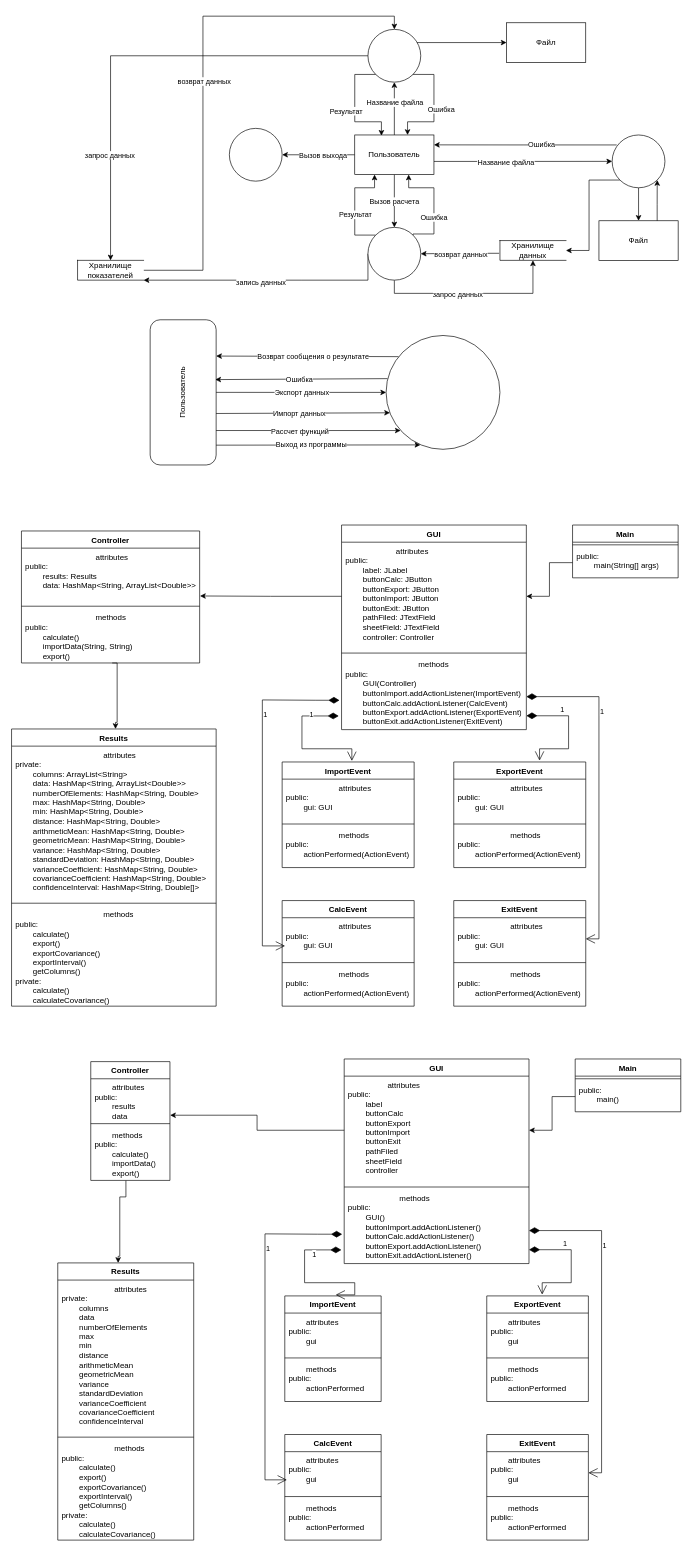
Some shapes in this 692 by 1554 pixel diagram are drawn without their labels. Here are the shapes that lost their labels. From the top down, the centre of each, then its label:
At point (394, 55): "Экспорт".
At point (255, 154): "Выход".
At point (638, 161): "Импорт".
At point (394, 253): "Расчет показателей".
At point (442, 392): "Программа".
